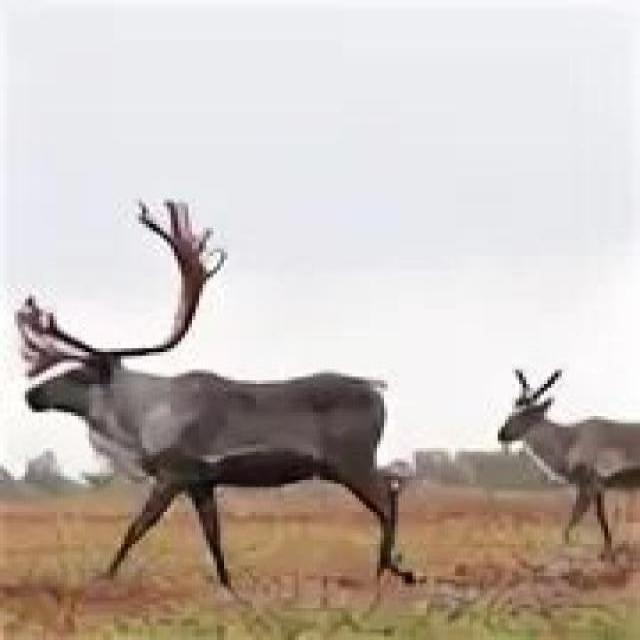deer: (0, 228, 409, 611), (441, 287, 640, 638)
